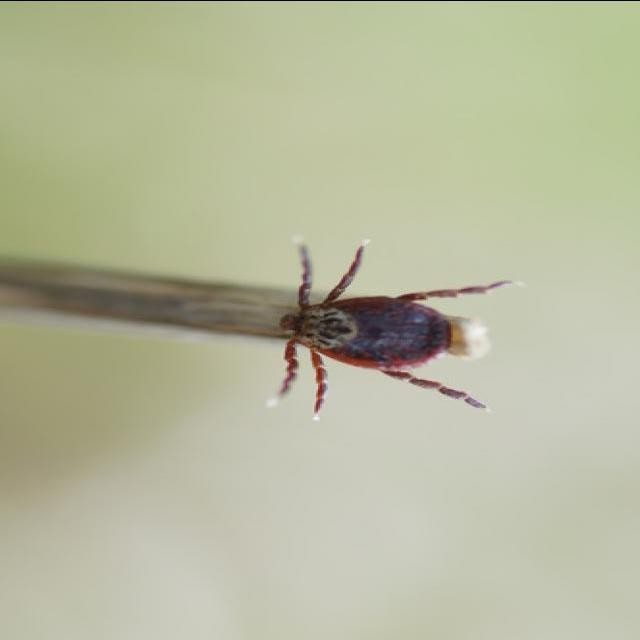Dermacentor Reticulatus-F: (278, 242, 505, 416)
